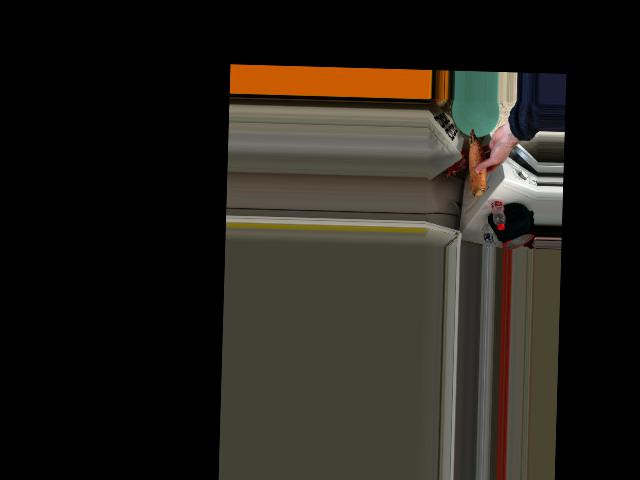sweet_potato: (462, 128, 492, 200)
